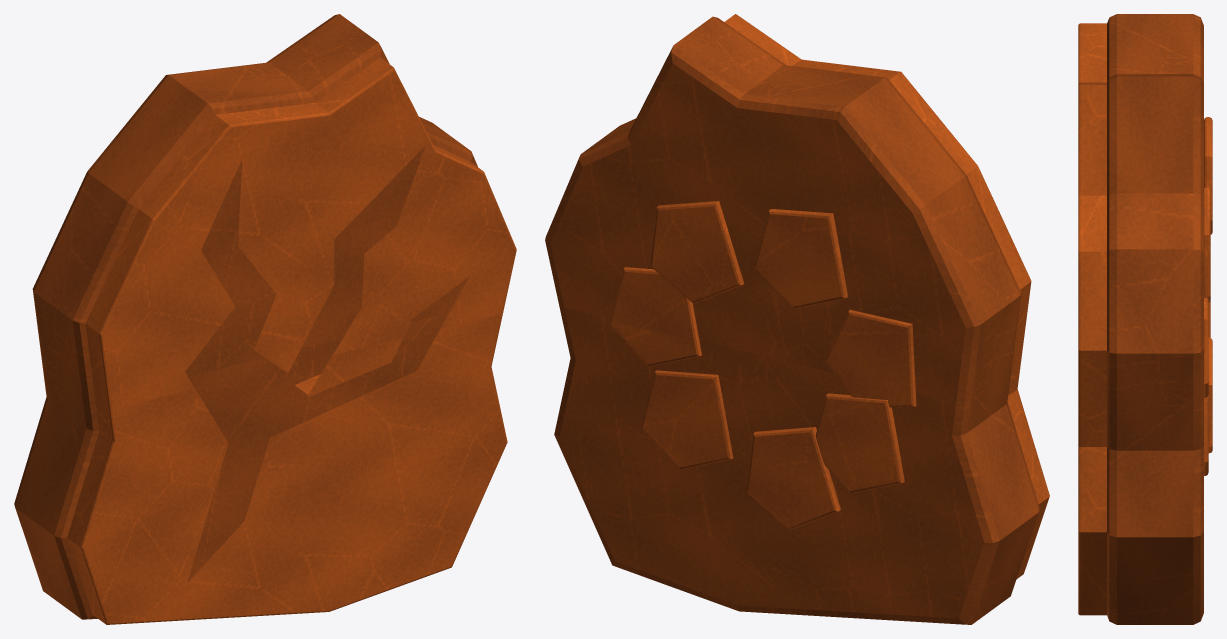
File: chaos_rune.glb
3 renders of one model, left to right at view 1: azimuth 30°, elevation 25°; view 2: azimuth 150°, elevation 25°; view 3: azimuth 270°, elevation 25°, orthographic. The views are drawn at different scales.
Parts seen in each view (by area): view 1: chaos_rune fractured mineral, chaos_rune weathered fracture edges; view 2: chaos_rune weathered fracture edges, chaos_rune fractured mineral; view 3: chaos_rune weathered fracture edges, chaos_rune fractured mineral.
Boxes of the visible parts, x1=… form: chaos_rune fractured mineral: x1=67, y1=57, x2=516, y2=624; chaos_rune weathered fracture edges: x1=14, y1=14, x2=477, y2=619; chaos_rune weathered fracture edges: x1=545, y1=16, x2=1039, y2=624; chaos_rune fractured mineral: x1=609, y1=14, x2=1049, y2=579; chaos_rune weathered fracture edges: x1=1107, y1=14, x2=1203, y2=624; chaos_rune fractured mineral: x1=1078, y1=23, x2=1212, y2=615.
Bounding box in the file's own units: 0.1672 × 0.1934 × 0.0441.
3 materials, 3 textured.
